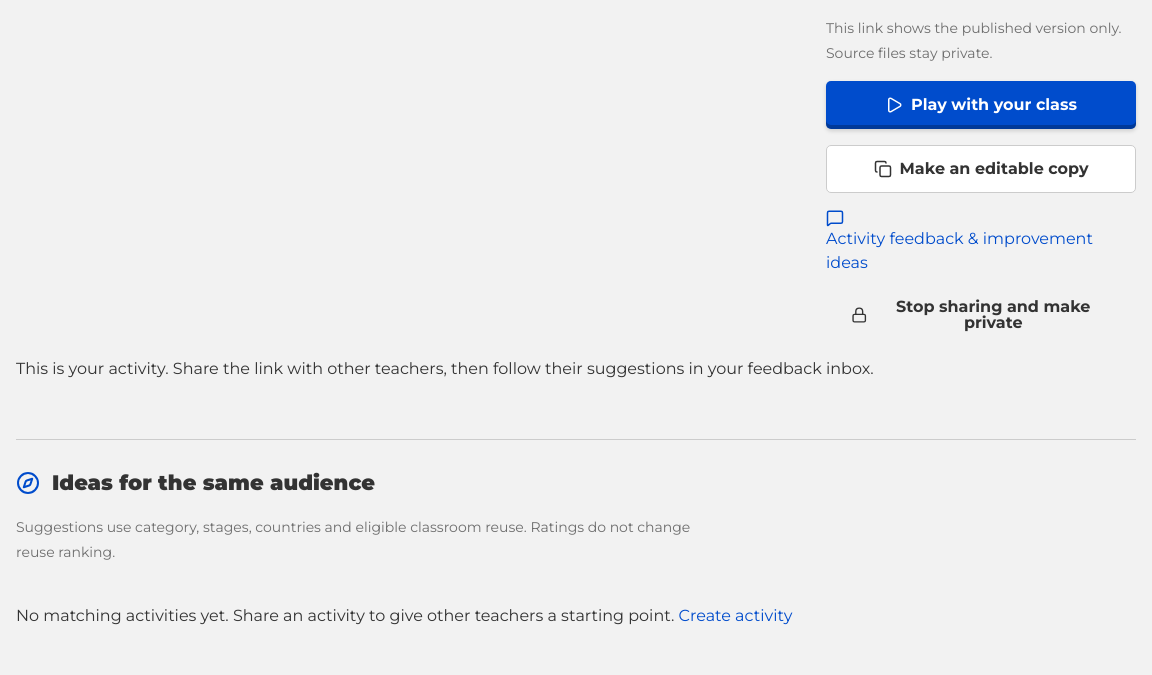
Test: lets the creator stop sharing and clearly confirms the link is private
(page scrolled)
What coordinates should you click on to do the following:
click the button "Stop sharing and make private"
I would click on:
 (981, 315)
Its box is [826, 291, 1136, 339].
(page scrolled)
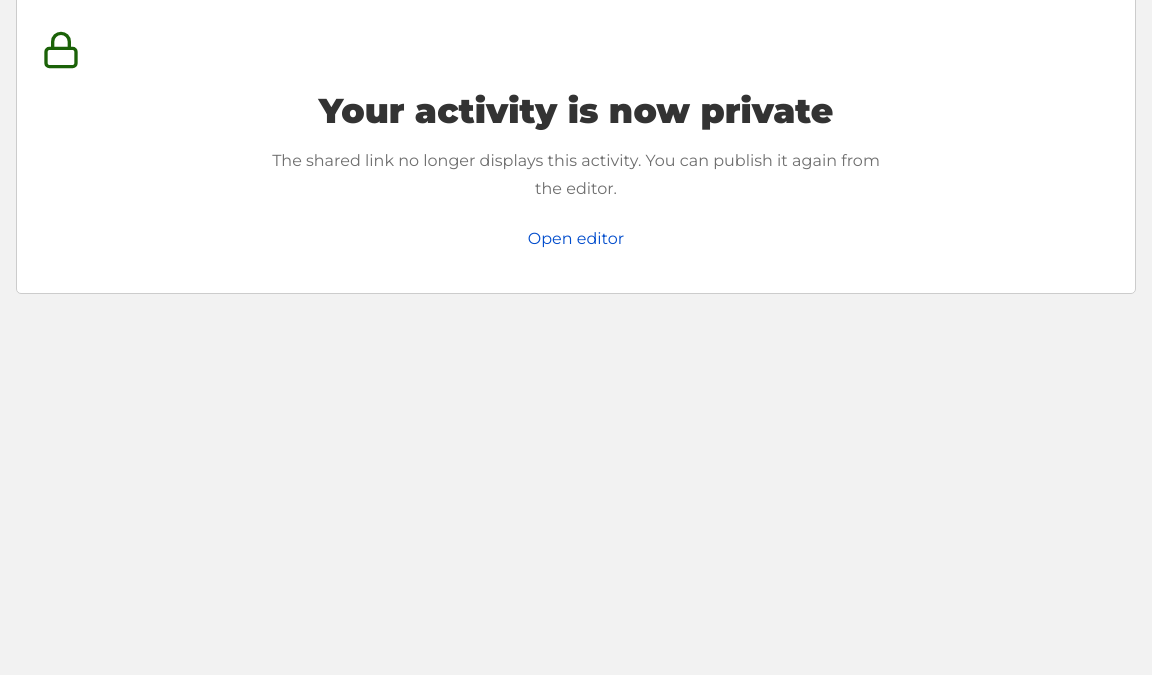
Check: the heading "Your activity is now private" is shown, box [319, 90, 833, 132]
